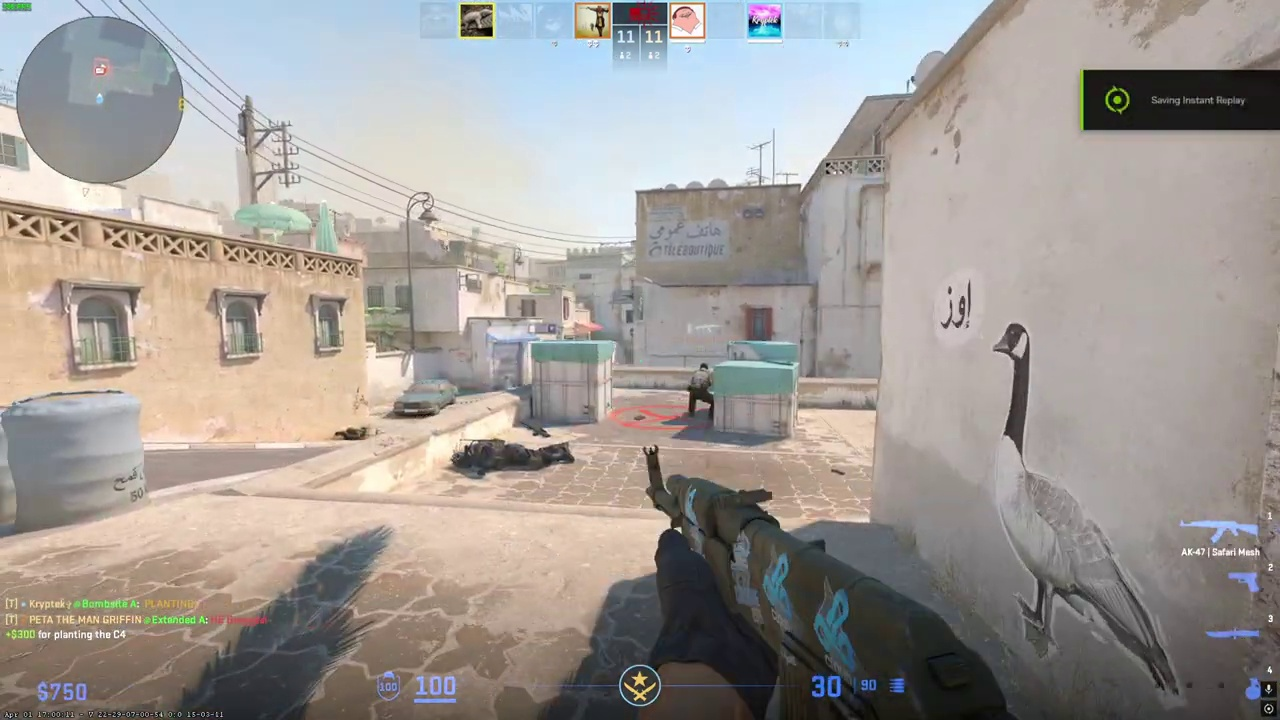Terrorist: (687, 363, 715, 419)
